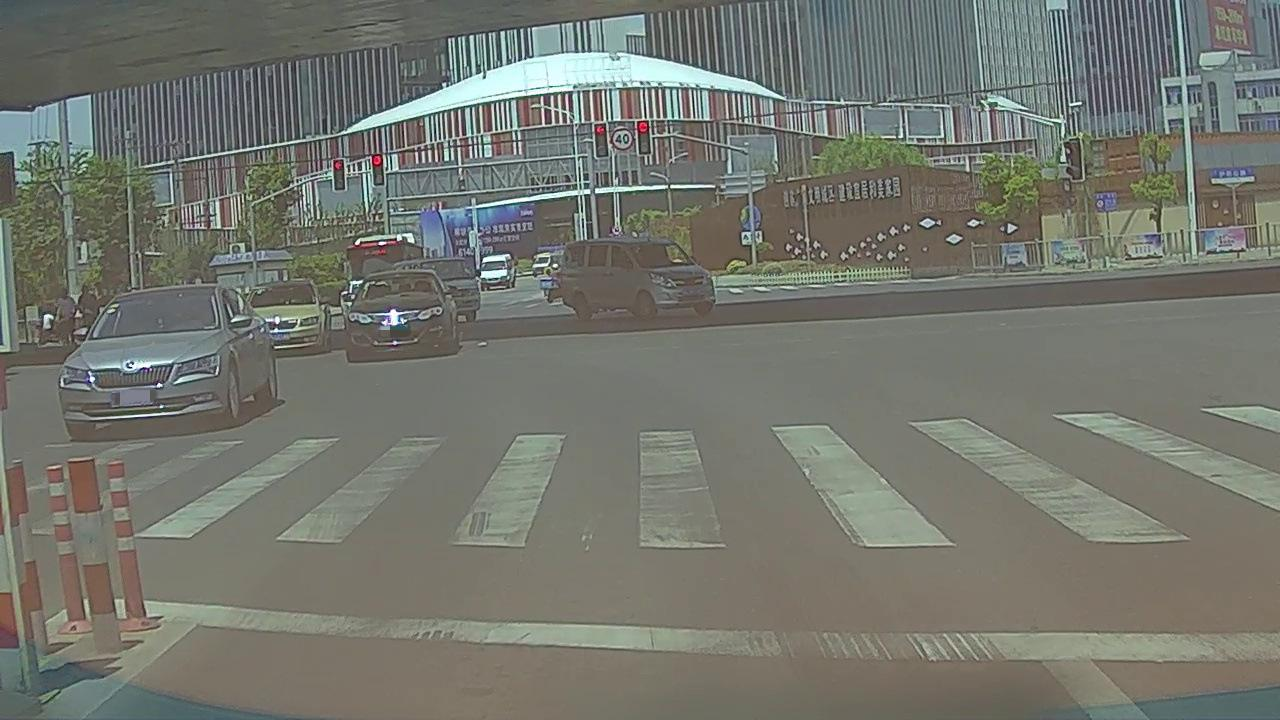traffic_light: (370, 152, 386, 186), (593, 123, 609, 157), (637, 121, 650, 155), (332, 160, 345, 189)
